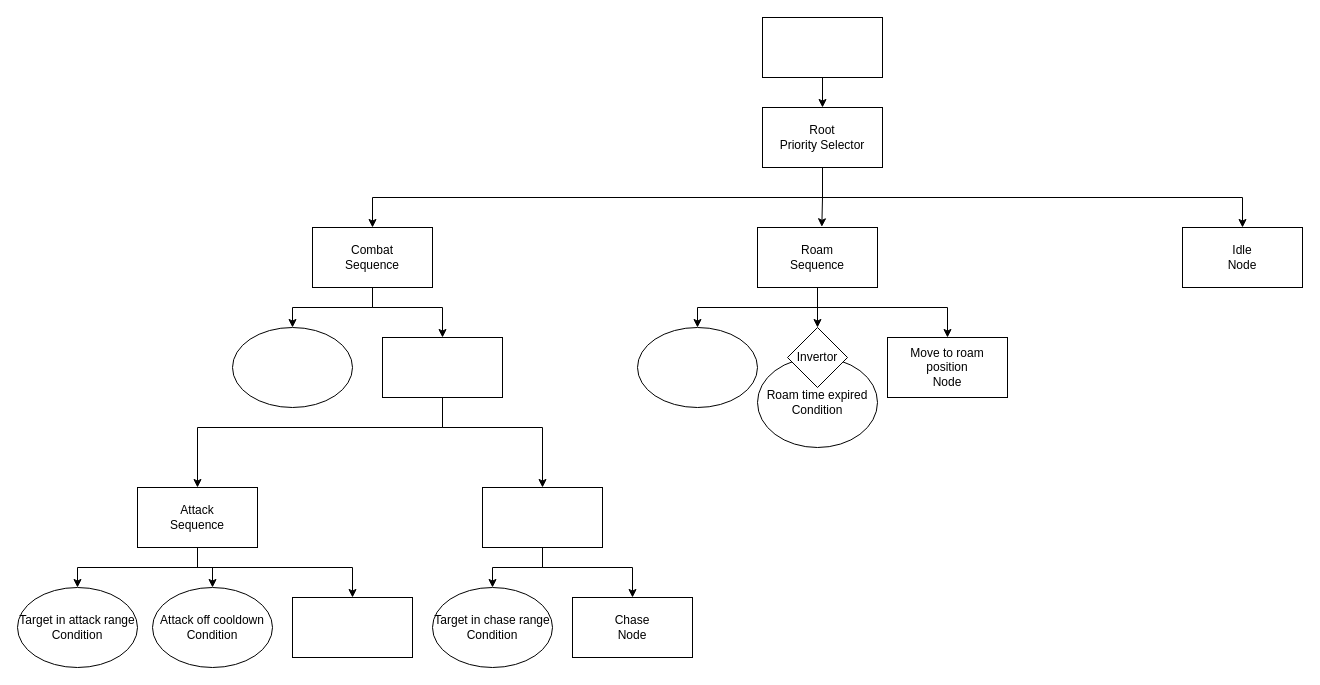
Some shapes in this 1320 by 685 pixel diagram are drawn without their labels. The shapes that lost their labels are listed below. From the top down, each one's centre as x and y in pixels, then its label:
point (822, 47): Base Enemy BT
point (292, 367): Target exists Condition
point (442, 367): Combat Selector
point (697, 367): Roam position != 0 Condition
point (542, 517): Chase Sequence
point (352, 627): Attack Node
